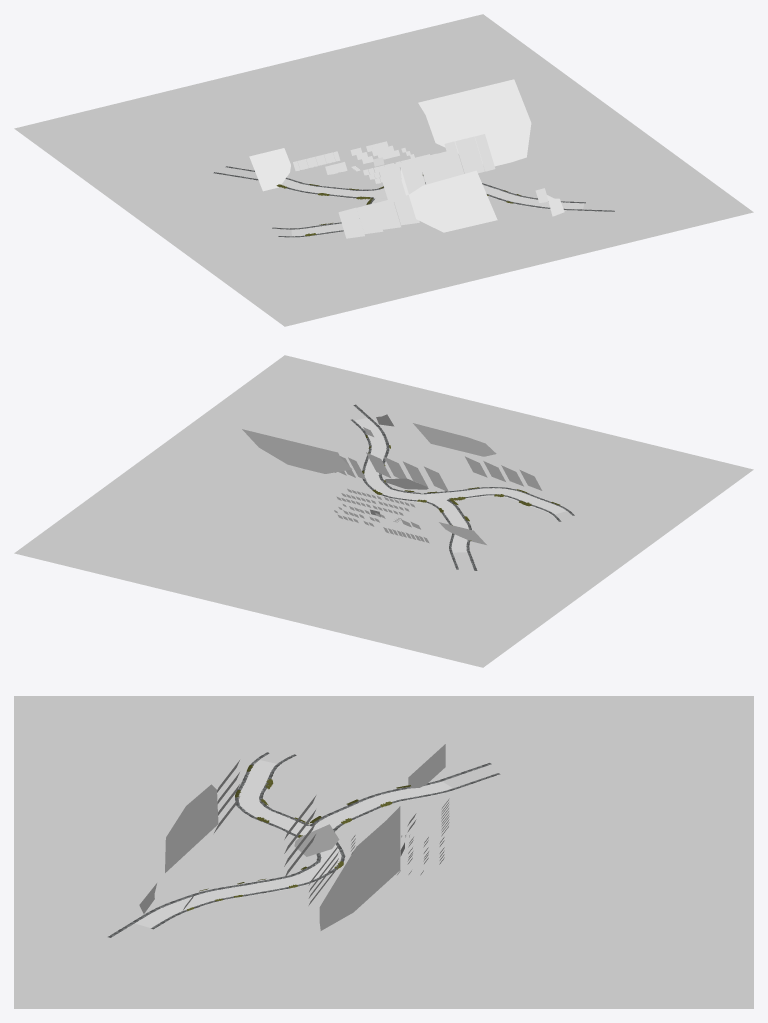
Rendered from test map 1.fbx.
3 renders of one model, top to bottom at view 1: azimuth 30°, elevation 25°; view 2: azimuth 150°, elevation 25°; view 3: azimuth 270°, elevation 25°, orthographic. The views are drawn at different scales.
Parts seen in each view (by area): view 1: Ground Test 3, Big Objects Atlas.006, Big Objects Atlas.003, Dirt_Ground 1 with Segments, Big Objects Atlas.001, Big Objects Atlas.005, Big Objects Atlas.008, Big Objects Atlas.011, Big Objects Atlas.012, Big Objects Atlas.013, Big Objects Atlas.009; view 2: Ground Test 3, Dirt_Ground 1 with Segments, Big Objects Atlas.006, Dirt_Ground 1 with segments, Big Objects Atlas.003, Stone 1; view 3: Ground Test 3, Big Objects Atlas.006, Dirt_Ground 1 with Segments, Big Objects Atlas.003, Dirt_Ground 1 with segments, Stone 1, Stone 1.005, Big Objects Atlas.007, Big Objects Atlas.001.
Boxes of the visible parts, box(x1,y1,x2,y2) form: Ground Test 3: box(14, 14, 753, 326); Big Objects Atlas.006: box(418, 79, 531, 166); Big Objects Atlas.003: box(409, 170, 497, 232); Dirt_Ground 1 with Segments: box(257, 176, 584, 210); Big Objects Atlas.001: box(249, 148, 290, 191); Big Objects Atlas.005: box(378, 163, 405, 201); Big Objects Atlas.008: box(399, 158, 425, 194); Big Objects Atlas.011: box(338, 207, 364, 238); Big Objects Atlas.012: box(357, 203, 383, 233); Big Objects Atlas.013: box(375, 198, 400, 229); Big Objects Atlas.009: box(418, 153, 444, 184); Ground Test 3: box(14, 355, 753, 667); Dirt_Ground 1 with Segments: box(354, 418, 468, 552); Big Objects Atlas.006: box(242, 429, 352, 473); Dirt_Ground 1 with segments: box(416, 488, 566, 514); Big Objects Atlas.003: box(413, 423, 496, 456); Stone 1: box(353, 404, 477, 570); Ground Test 3: box(14, 696, 753, 1008); Big Objects Atlas.006: box(319, 806, 400, 930); Dirt_Ground 1 with Segments: box(135, 781, 455, 928); Big Objects Atlas.003: box(165, 784, 218, 872); Dirt_Ground 1 with segments: box(238, 760, 311, 838); Stone 1: box(108, 763, 491, 937); Stone 1.005: box(151, 773, 500, 929); Big Objects Atlas.007: box(294, 824, 339, 856); Big Objects Atlas.001: box(408, 744, 445, 788).
Size of the model in its own units: 15000 by 1848 by 15000.
Materials: 6 (1 with a texture image).
